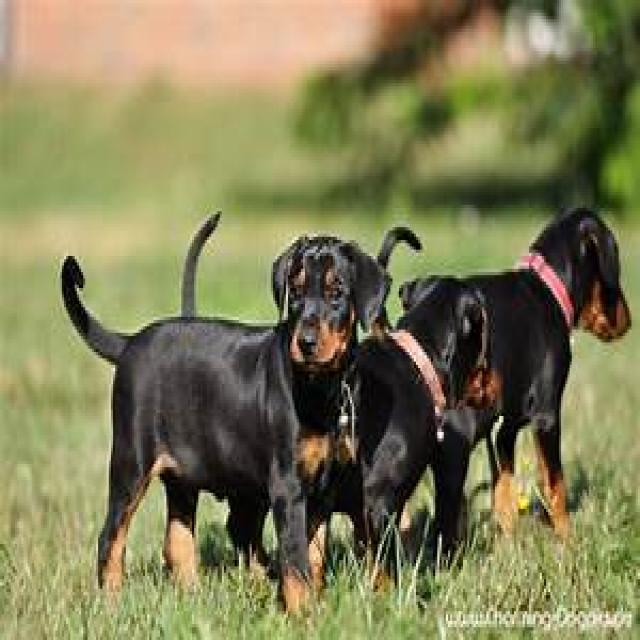KOPEK: (61, 234, 371, 610)
